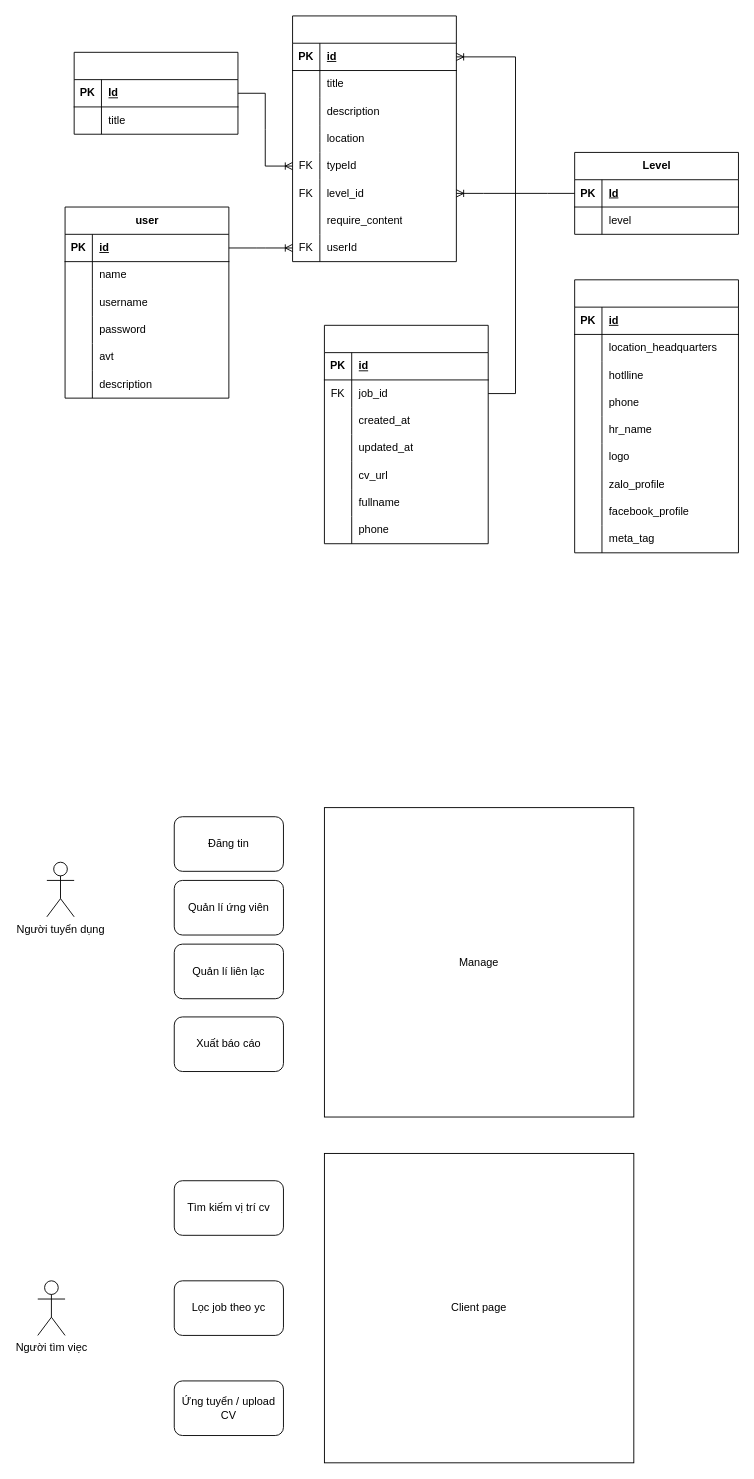
Some shapes in this 754 by 1479 pixel diagram are drawn without their labels. The shapes that lost their labels are listed below. From the top down, each one's box as (x1, y1, x2, y2) in pixels, then its label:
(73, 51, 238, 134): Type
(292, 15, 456, 262): Job
(324, 324, 488, 544): Apply_to
(574, 279, 738, 553): About
